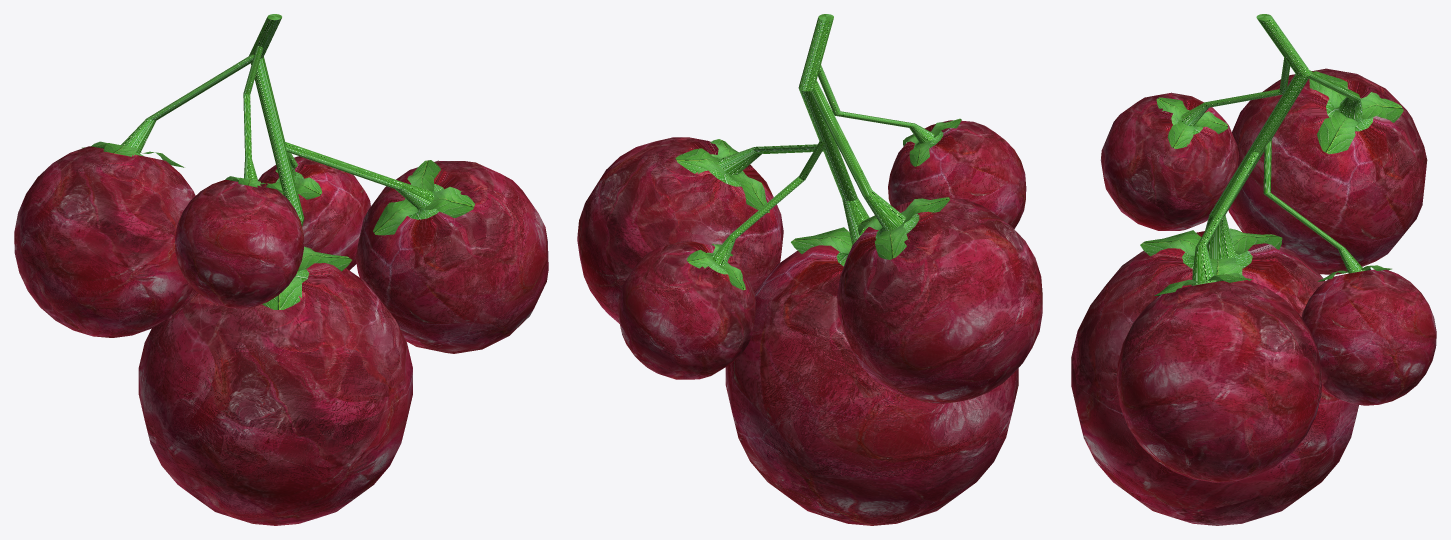
The model's file is berry_group.fbx.
3 renders of one model, left to right at view 1: azimuth 30°, elevation 25°; view 2: azimuth 150°, elevation 25°; view 3: azimuth 270°, elevation 25°, orthographic. The views are drawn at different scales.
Parts seen in each view (by area): view 1: pPlane12; view 2: pPlane12; view 3: pPlane12.
Part boxes in pixels (x1=…): pPlane12: x1=14, y1=14, x2=548, y2=525; pPlane12: x1=577, y1=14, x2=1042, y2=525; pPlane12: x1=1071, y1=14, x2=1436, y2=525.
Size of the model in its own units: 3.83 by 3.78 by 2.47.
Materials: 2 (2 with a texture image).
